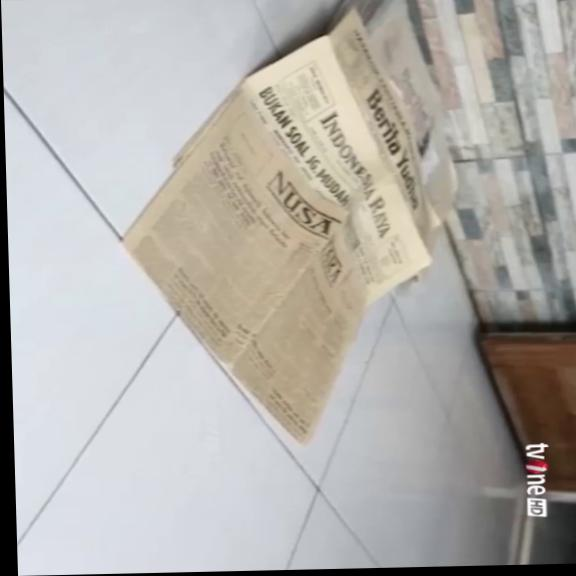Kertas: (123, 82, 365, 442), (242, 37, 428, 303), (245, 37, 428, 303), (334, 0, 456, 220), (327, 10, 439, 248)
